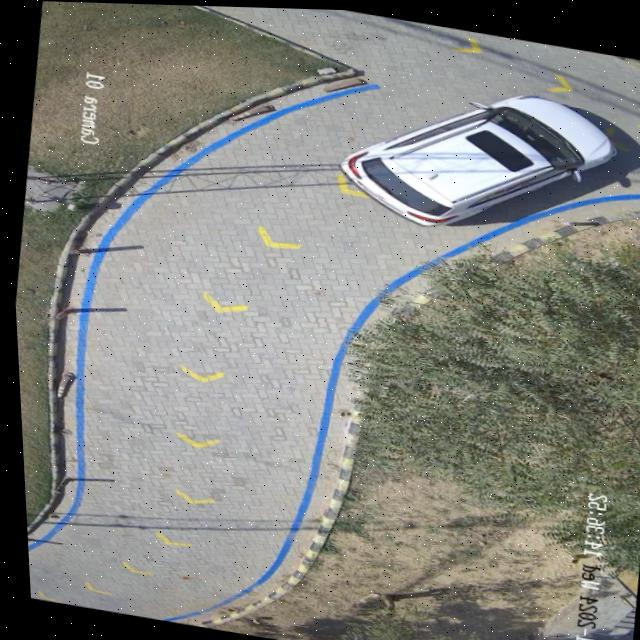car: (338, 92, 610, 224)
